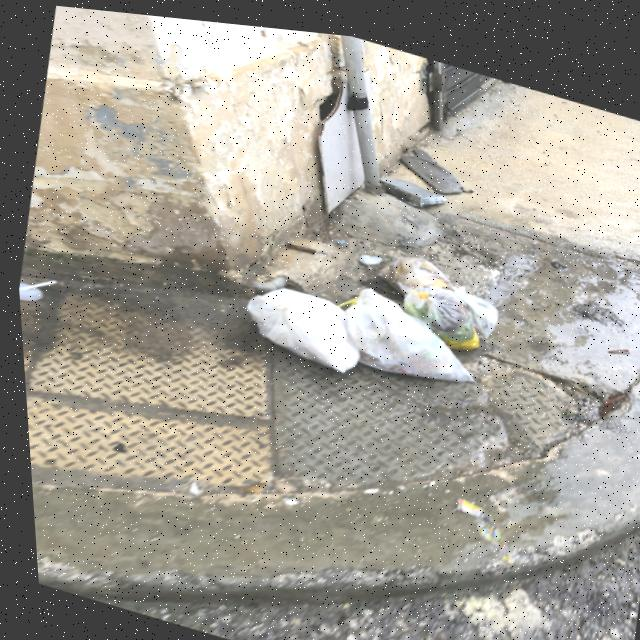Organic Waste -White Bag-: (335, 275, 483, 389), (236, 273, 369, 372), (395, 271, 502, 350), (372, 240, 463, 305)
Other: (397, 137, 474, 193), (371, 163, 454, 207)
